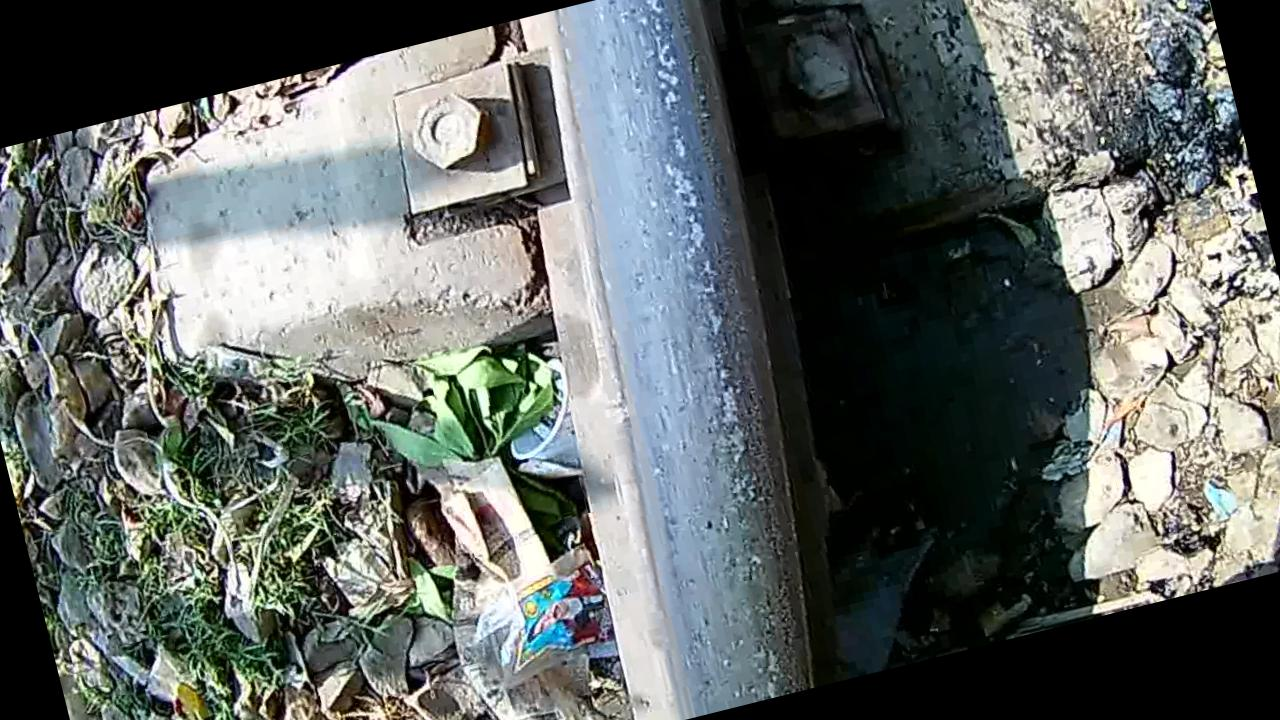clip_missing: (509, 0, 879, 720)
